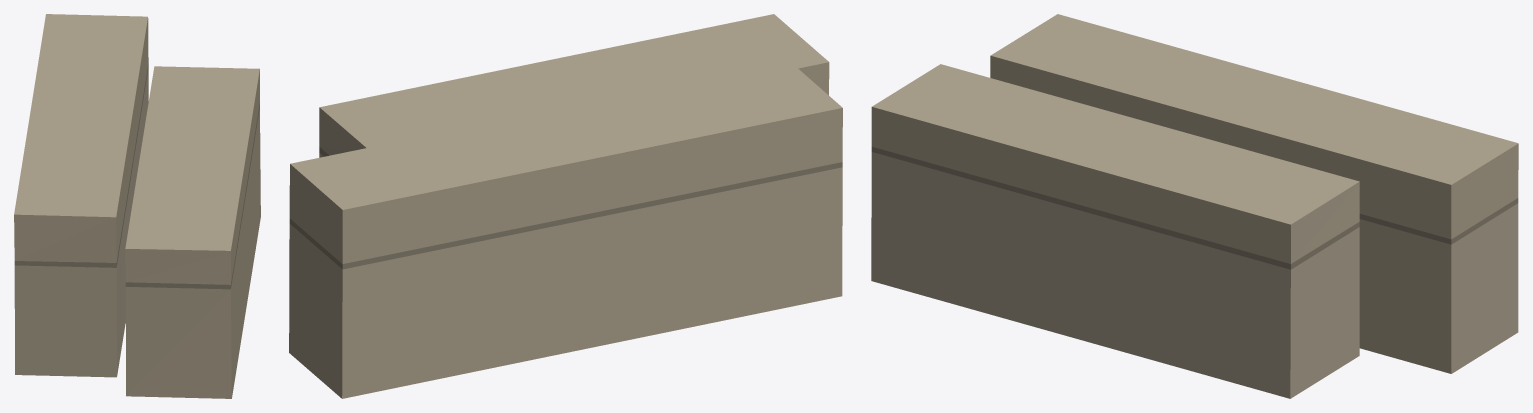
File: terminal-2---136_-20.glb
The picture shows the model from 3 angles, left to right: view 1: azimuth 30°, elevation 25°; view 2: azimuth 150°, elevation 25°; view 3: azimuth 270°, elevation 25°; orthographic projection. The views are drawn at different scales.
Visible parts, largest first — view 1: measured-industrial; view 2: measured-industrial; view 3: measured-industrial.
Part boxes in pixels (x1,y1,x2,y2): measured-industrial: (14,14,260,398); measured-industrial: (289,14,842,398); measured-industrial: (871,14,1518,398).
Size of the model in its own units: 9.29 by 4.16 by 12.83.
